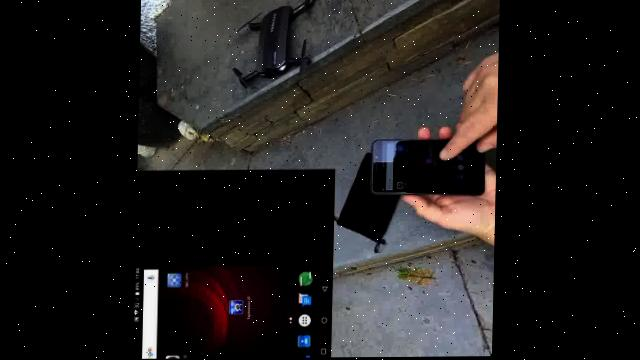drone: (218, 0, 332, 115)
